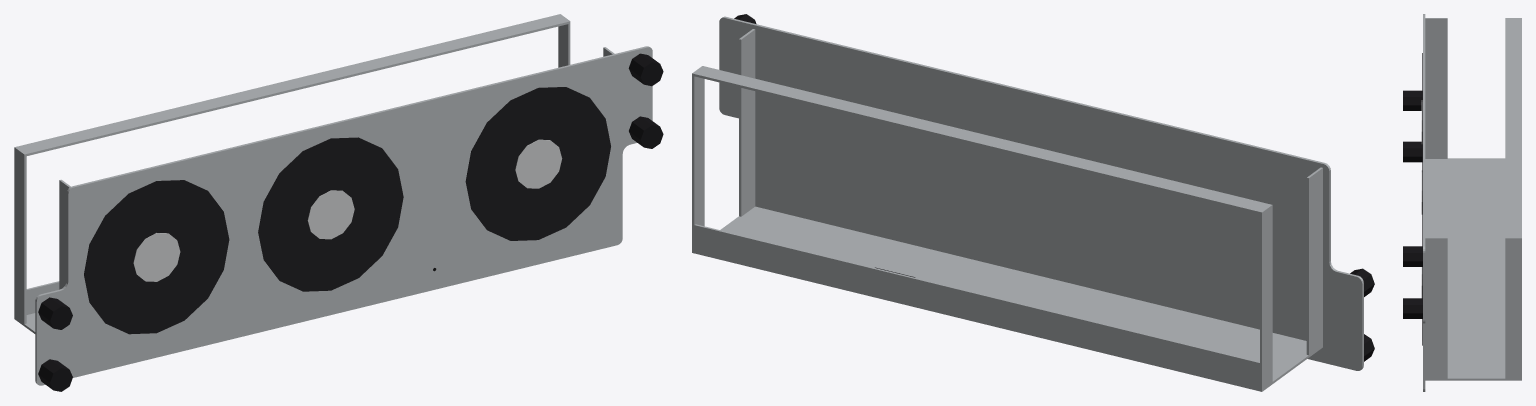
Rendered from PA-3200-FAN-TRAY.far.glb.
3 views of the same model, side by side, from view 1: azimuth 30°, elevation 25°; view 2: azimuth 150°, elevation 25°; view 3: azimuth 270°, elevation 25° (orthographic). The views are drawn at different scales.
Visible parts, largest first — view 1: Fan_Tray_far; view 2: Fan_Tray_far; view 3: Fan_Tray_far.
Boxes of the visible parts, <box> form: Fan_Tray_far: <box>14,14,663,391</box>; Fan_Tray_far: <box>692,14,1374,391</box>; Fan_Tray_far: <box>1403,14,1521,391</box>.
Bounding box in the file's own units: 0.285 × 0.0842 × 0.0576.
Materials: 2 (1 with a texture image).
